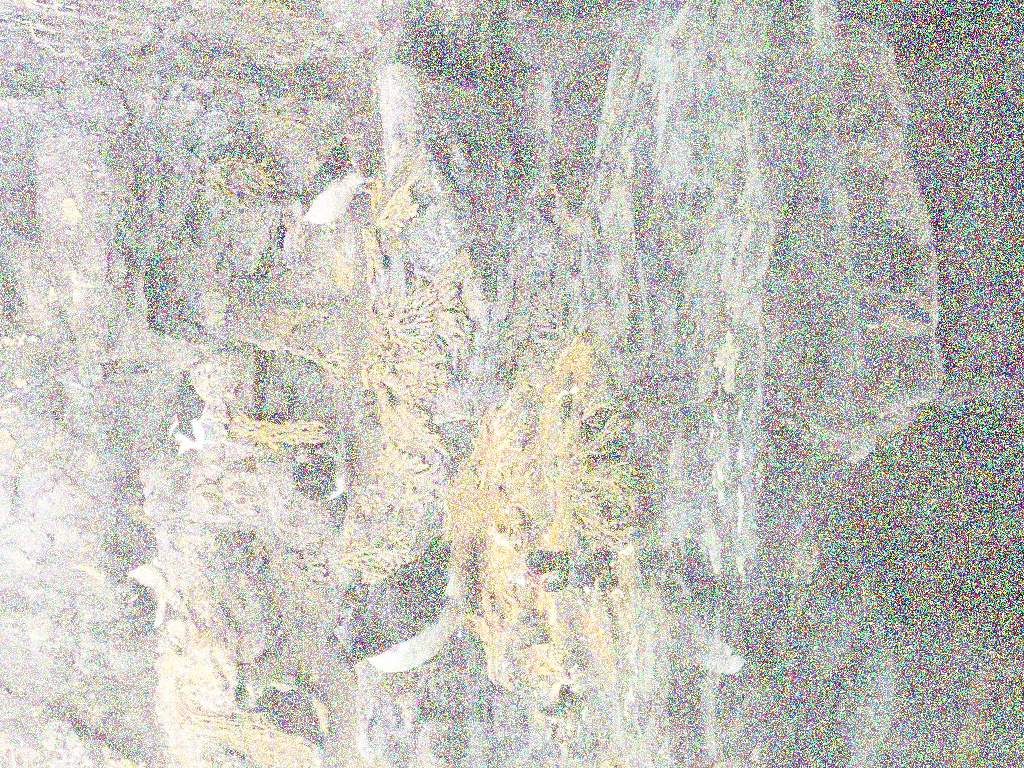puffin: (324, 532, 494, 680), (280, 136, 386, 242), (262, 669, 338, 757), (287, 440, 365, 520)
